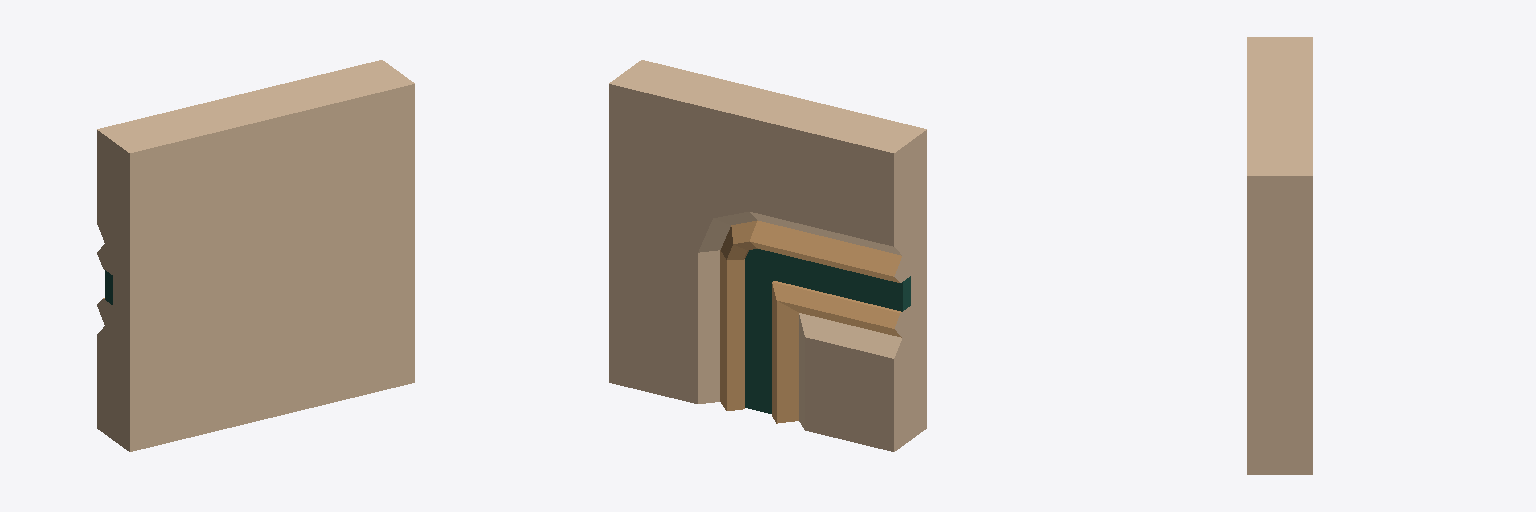
Rendered from Puzzle_Wall_Conduit_Path_Corner.obj.
3 views of the same model, side by side, from view 1: azimuth 30°, elevation 25°; view 2: azimuth 150°, elevation 25°; view 3: azimuth 270°, elevation 25° (orthographic).
Visible parts, largest first — view 1: object2; view 2: object2, object1; view 3: object2.
Boxes of the visible parts, box(x1,y1,x2,y2) form: object2: box(97, 60, 414, 451); object2: box(609, 60, 926, 451); object1: box(745, 249, 910, 413); object2: box(1247, 37, 1312, 474).
Bounding box in the file's own units: 1 × 1 × 0.2.